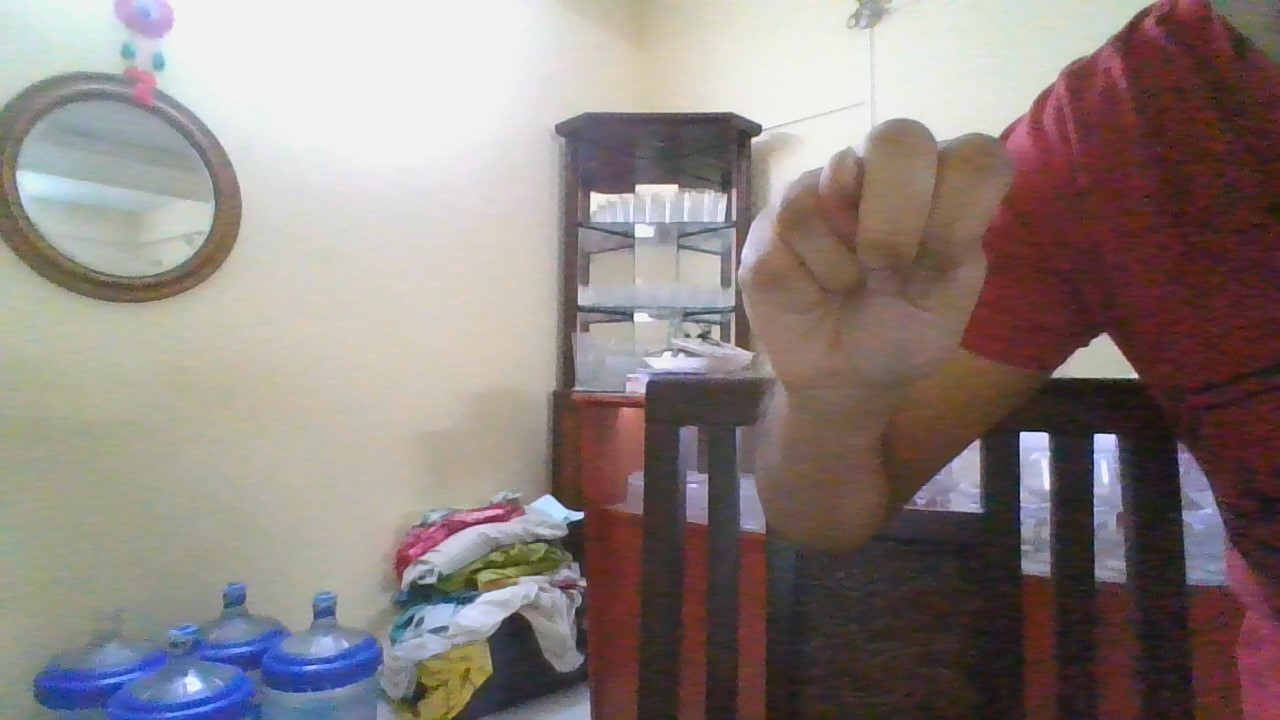n: (737, 117, 1015, 399)
